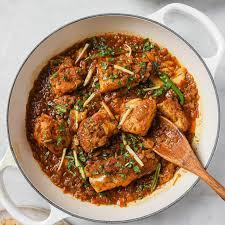Fish Curry: (26, 33, 204, 209)
